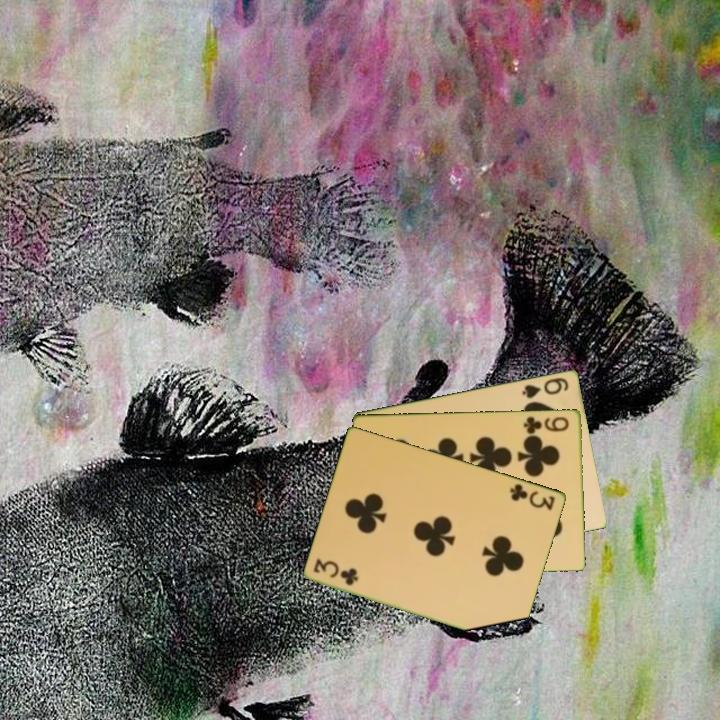3c: (507, 480, 558, 513), (310, 556, 362, 588)
6s: (519, 374, 572, 401)
9c: (521, 412, 572, 436)
